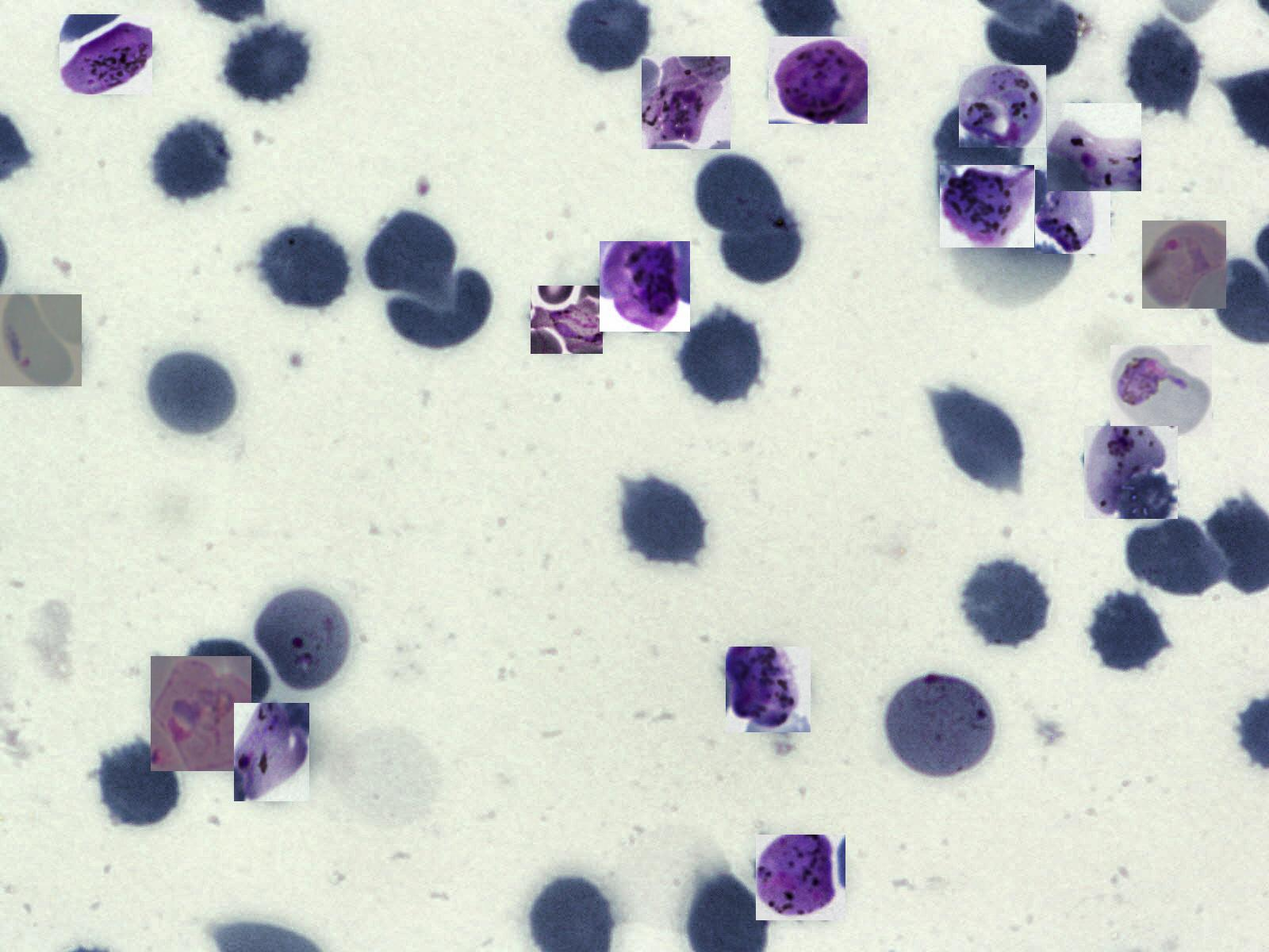Infected: (884, 675, 993, 781), (151, 656, 251, 771), (255, 585, 347, 694), (1110, 345, 1212, 436), (1084, 426, 1178, 519), (769, 36, 868, 124), (1047, 103, 1141, 191), (600, 241, 690, 332), (642, 56, 730, 149), (940, 165, 1034, 248), (756, 835, 845, 920), (0, 294, 82, 386), (59, 14, 152, 94), (1142, 221, 1226, 309), (234, 703, 309, 801), (726, 647, 811, 732), (959, 65, 1046, 148), (1035, 170, 1110, 254), (531, 286, 603, 354)
Uninfected: (388, 261, 493, 349), (933, 389, 1026, 487), (144, 347, 240, 440), (365, 209, 458, 300), (960, 557, 1052, 648), (679, 307, 766, 403), (619, 474, 708, 567), (256, 221, 350, 309), (1130, 518, 1233, 598), (694, 152, 784, 240), (96, 737, 182, 829), (1123, 18, 1202, 116), (183, 635, 273, 718), (934, 100, 1026, 180), (222, 22, 311, 103), (717, 200, 803, 283), (151, 118, 232, 201), (1090, 590, 1168, 671)
